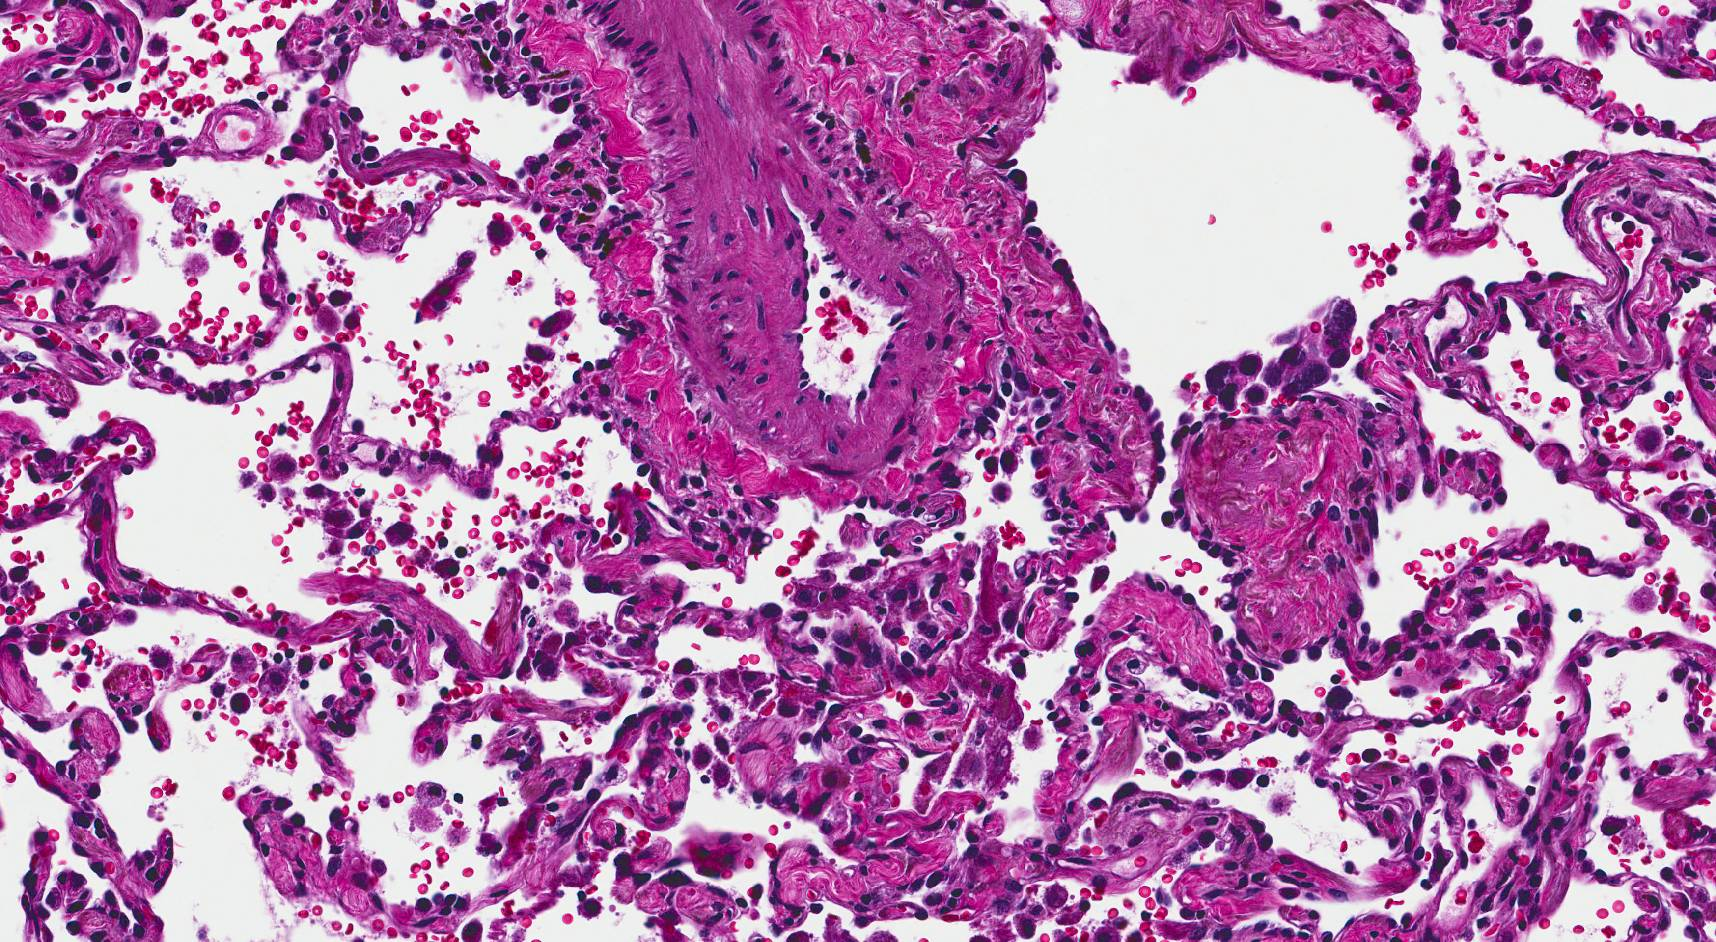stas: (1203, 296, 1358, 414)
